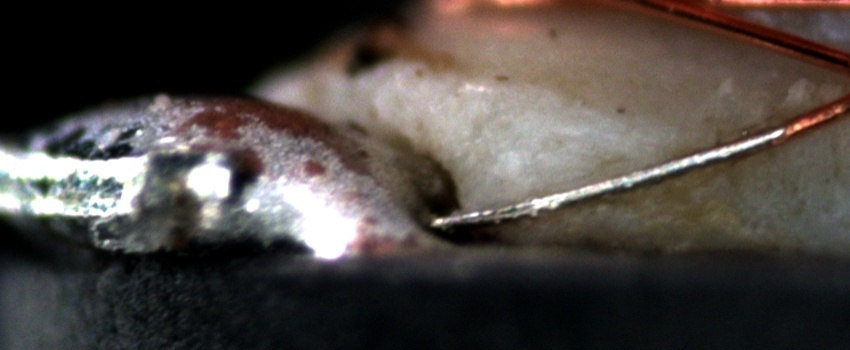TS: (434, 125, 786, 228)
